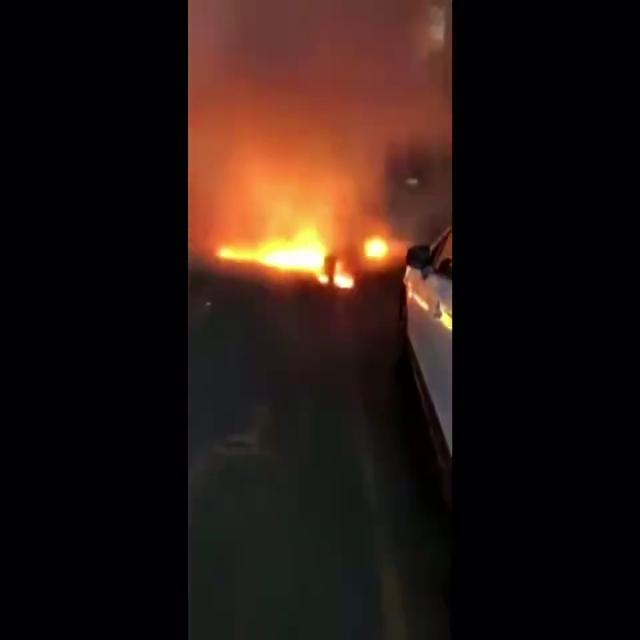Fire: (222, 186, 396, 294)
Smoke: (188, 1, 452, 212)
